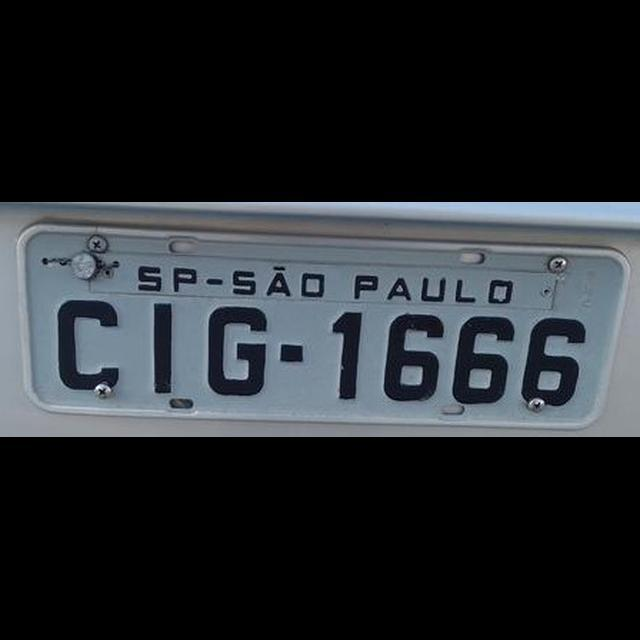Caractere: (57, 296, 121, 398), (520, 314, 586, 412), (452, 313, 516, 407), (380, 310, 444, 404), (205, 304, 267, 398), (332, 308, 362, 404), (153, 301, 175, 397)
Placa: (11, 222, 634, 440)
